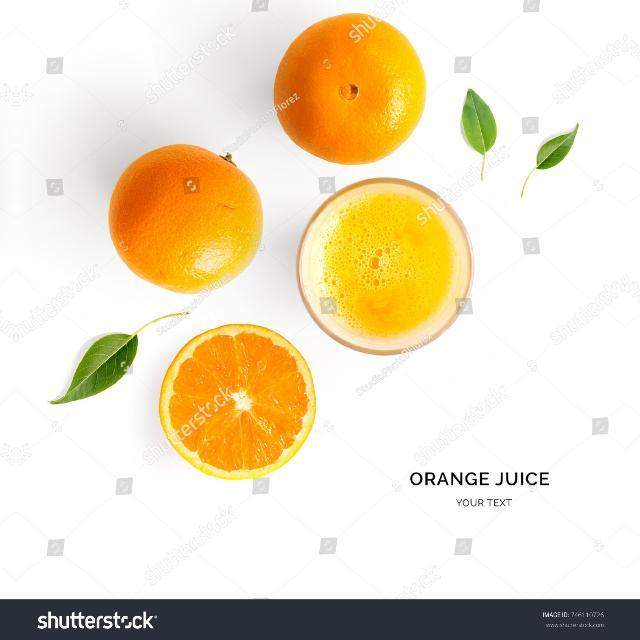Orange: (158, 322, 316, 480), (107, 142, 263, 295), (272, 11, 426, 165)
